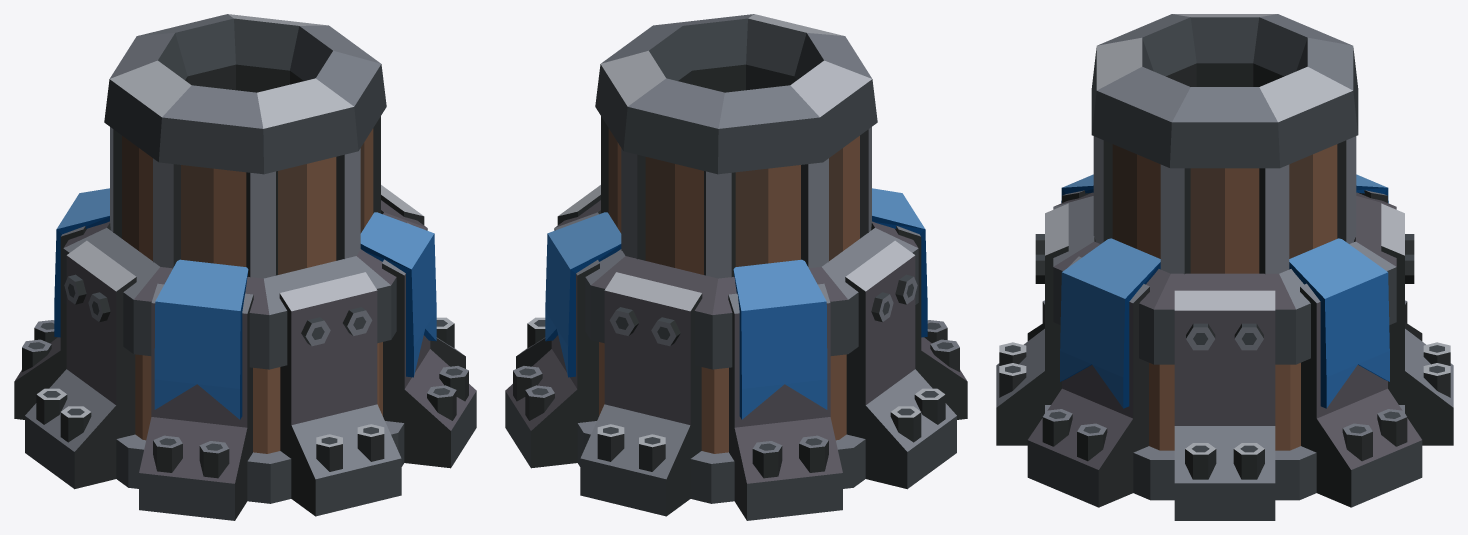
File: TB_CanonTower_Lvl3.FBX
The picture shows the model from 3 angles, left to right: view 1: azimuth 30°, elevation 25°; view 2: azimuth 150°, elevation 25°; view 3: azimuth 270°, elevation 25°; orthographic projection.
Visible parts, largest first — view 1: TB_CanonTower_Lvl3, TB_CanonTower_Lvl3_Canon; view 2: TB_CanonTower_Lvl3, TB_CanonTower_Lvl3_Canon; view 3: TB_CanonTower_Lvl3, TB_CanonTower_Lvl3_Canon.
Part boxes in pixels (left/top/right/bottom): TB_CanonTower_Lvl3: left=14, top=185, right=476, bottom=520; TB_CanonTower_Lvl3_Canon: left=104, top=14, right=386, bottom=278; TB_CanonTower_Lvl3: left=505, top=185, right=967, bottom=520; TB_CanonTower_Lvl3_Canon: left=595, top=14, right=877, bottom=278; TB_CanonTower_Lvl3: left=996, top=174, right=1453, bottom=520; TB_CanonTower_Lvl3_Canon: left=1091, top=14, right=1358, bottom=274.
Size of the model in its own units: 8.47 by 7.6 by 8.47.
